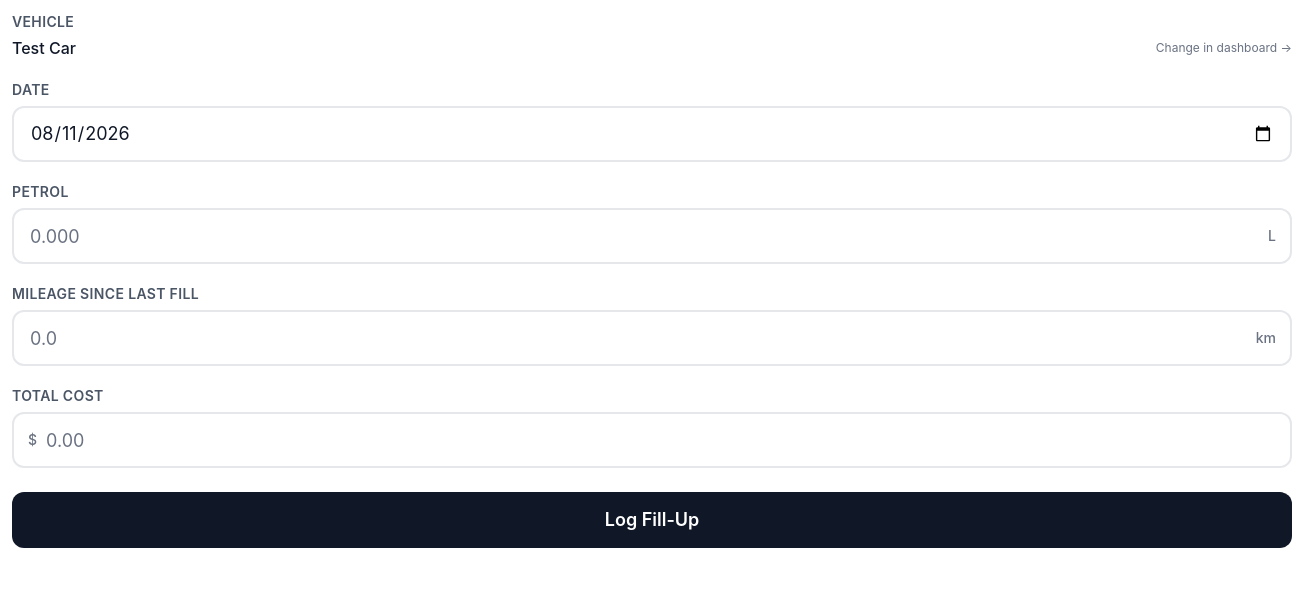
Test: LogForm › renders network error when fetch rejects
Type "40" into the number field labelled "Petrol". click: (652, 236)
box: [12, 208, 1292, 264]
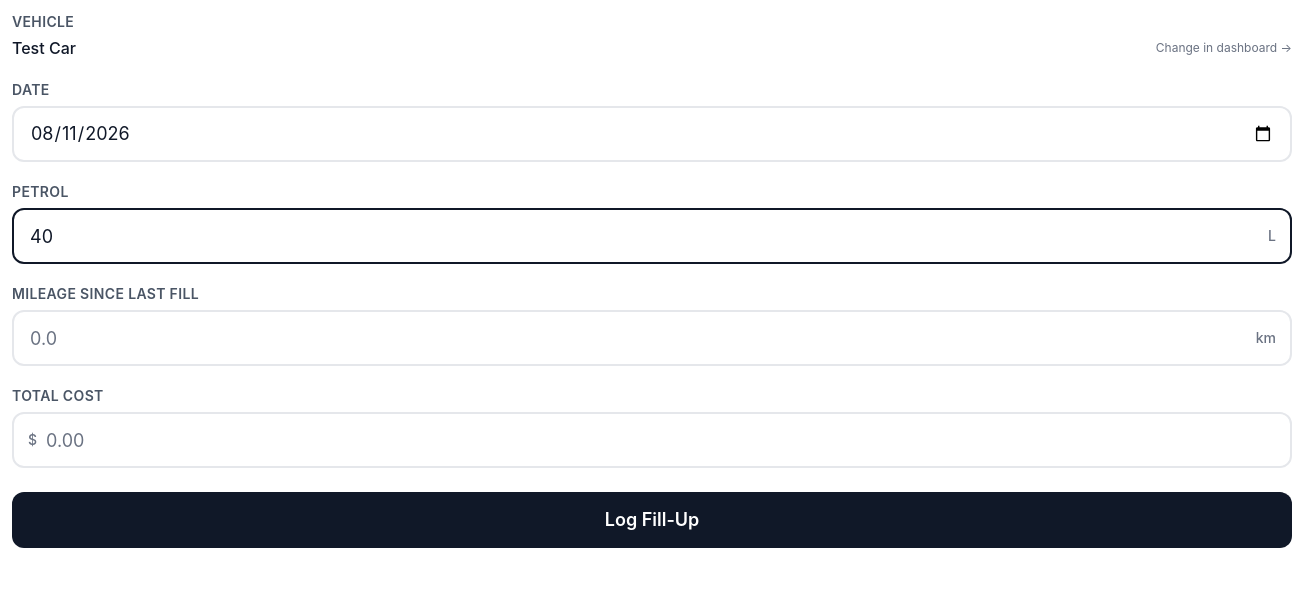
Type "500" into the number field labelled "Mileage since last fill". click: (652, 338)
box: [12, 310, 1292, 366]
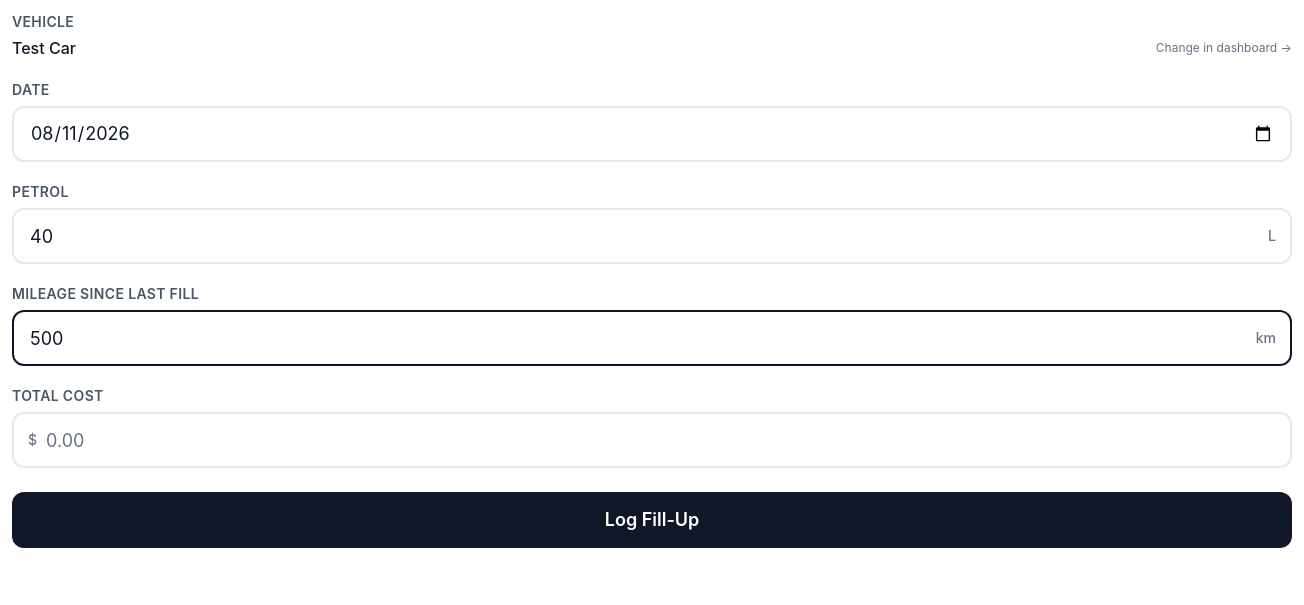
Type "80" into the number field labelled "Total cost". click: (652, 440)
box: [12, 412, 1292, 468]
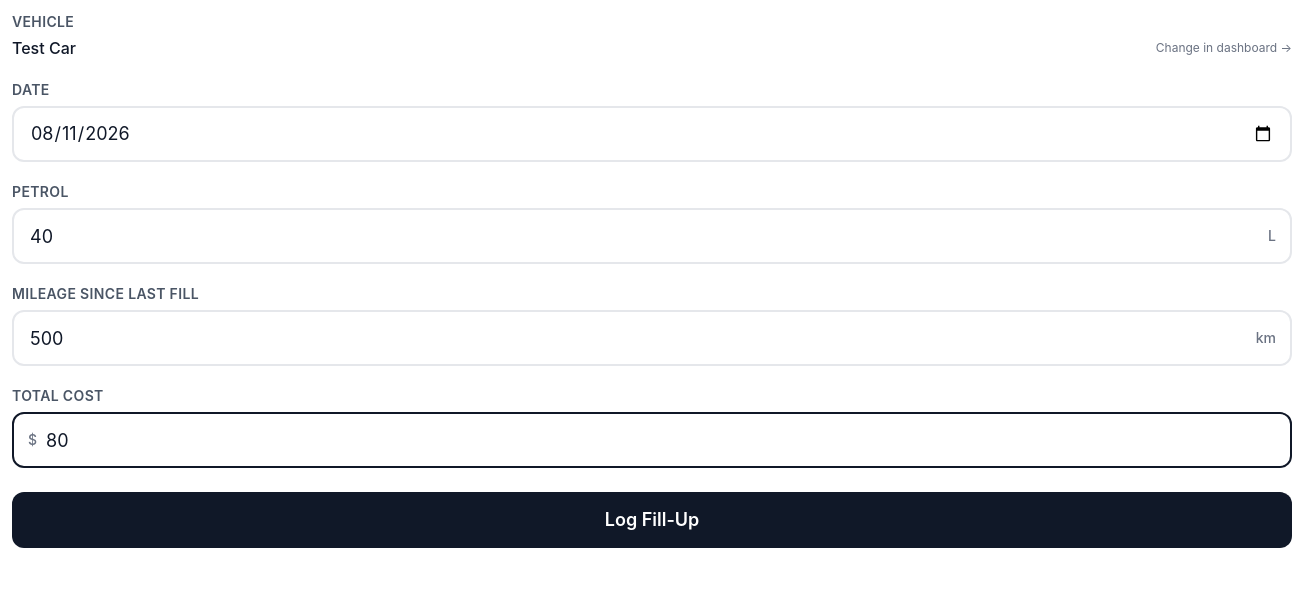
Click the button "Log Fill-Up". click: (652, 520)
box: [12, 492, 1292, 548]
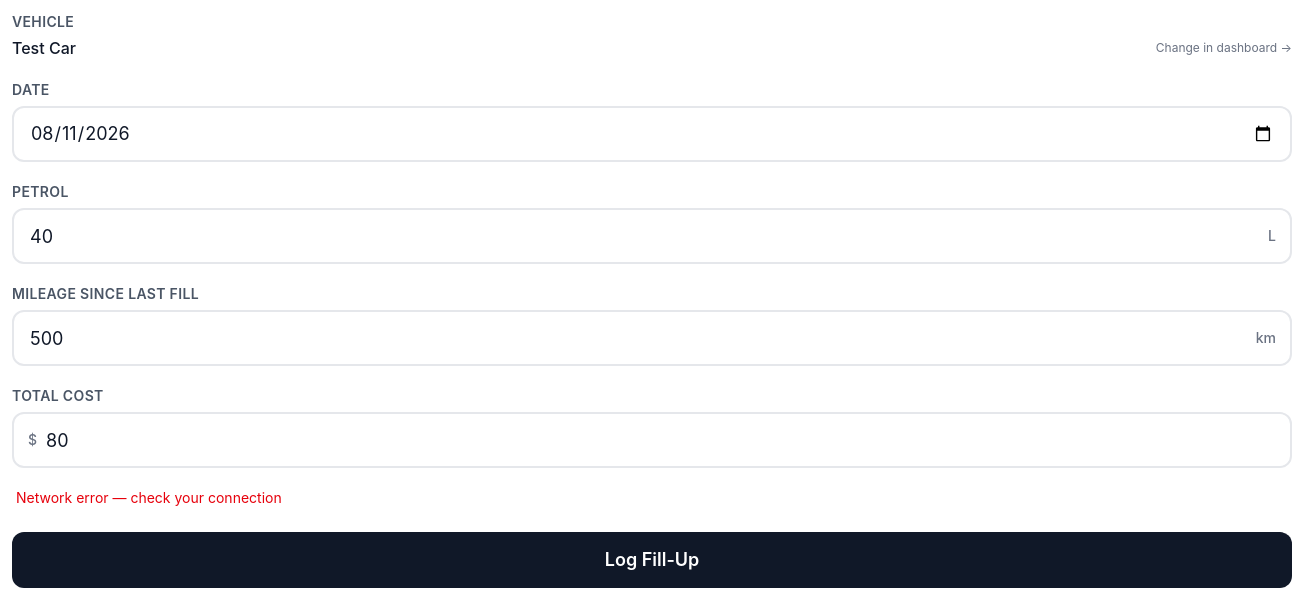
Check: the text "Network error — check your connection" is shown, box [16, 489, 282, 506]
